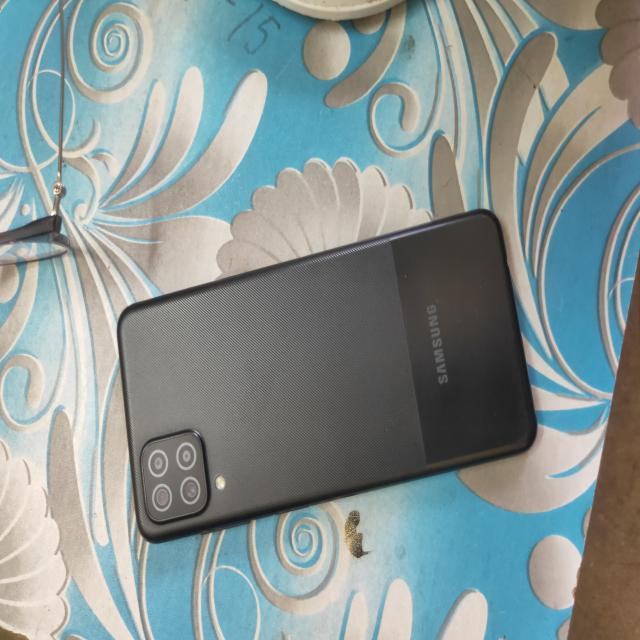Phone: (116, 207, 544, 550)
